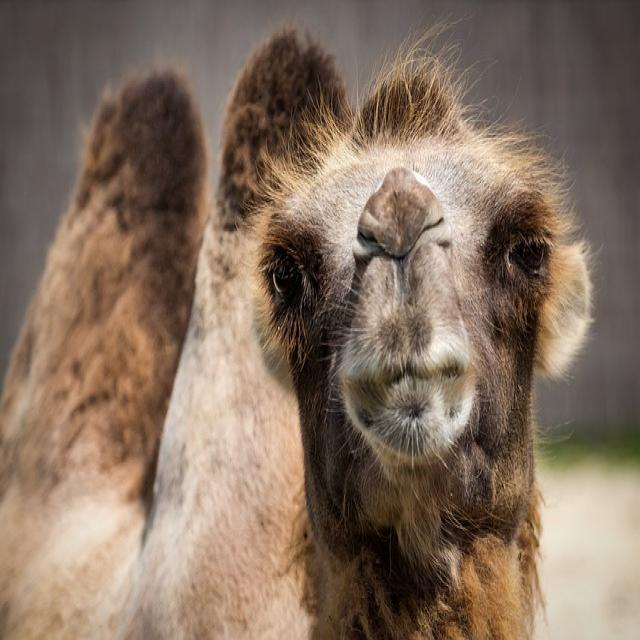Herbivorous: (0, 27, 598, 640)
